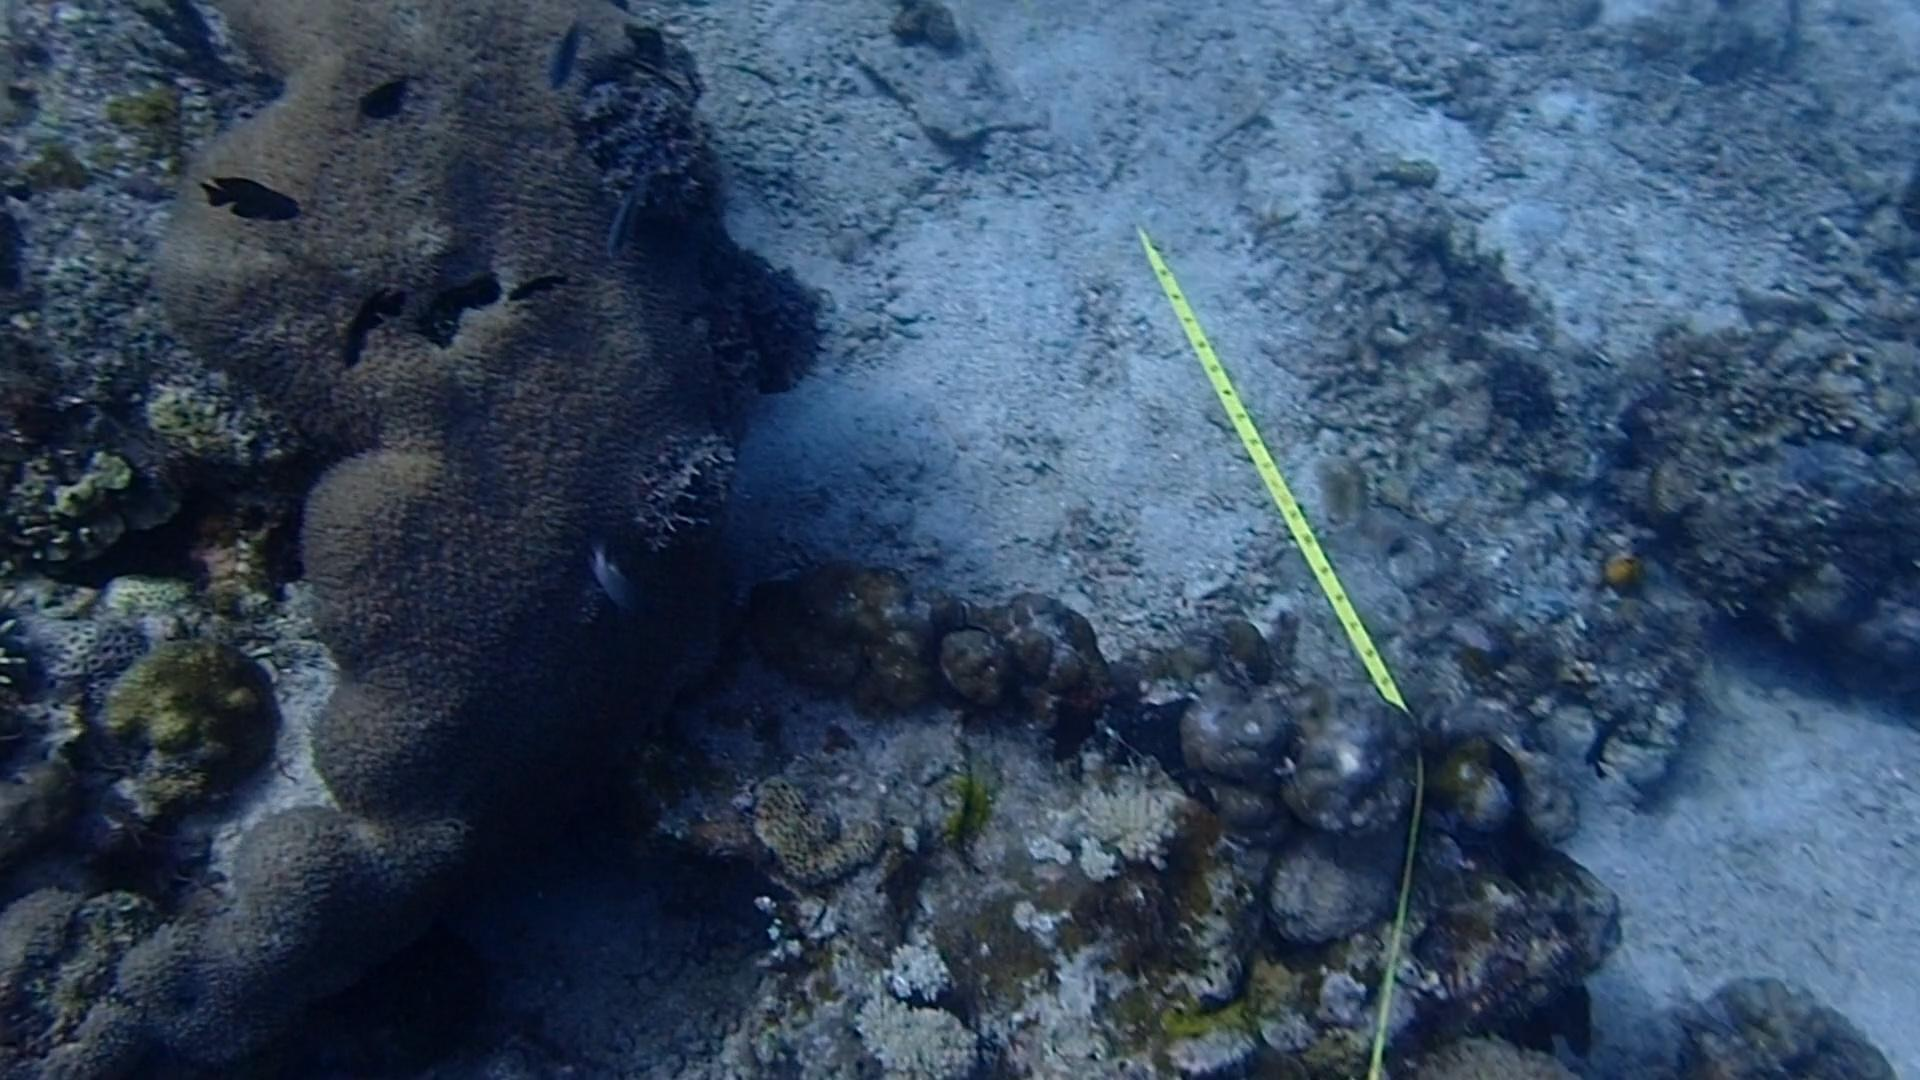Dark Fish: (324, 284, 413, 382), (194, 166, 316, 237), (353, 59, 426, 131), (1577, 704, 1634, 795), (1470, 733, 1532, 806), (492, 264, 571, 311)
Light Fish: (589, 154, 661, 262), (530, 12, 603, 99), (571, 526, 636, 622)
